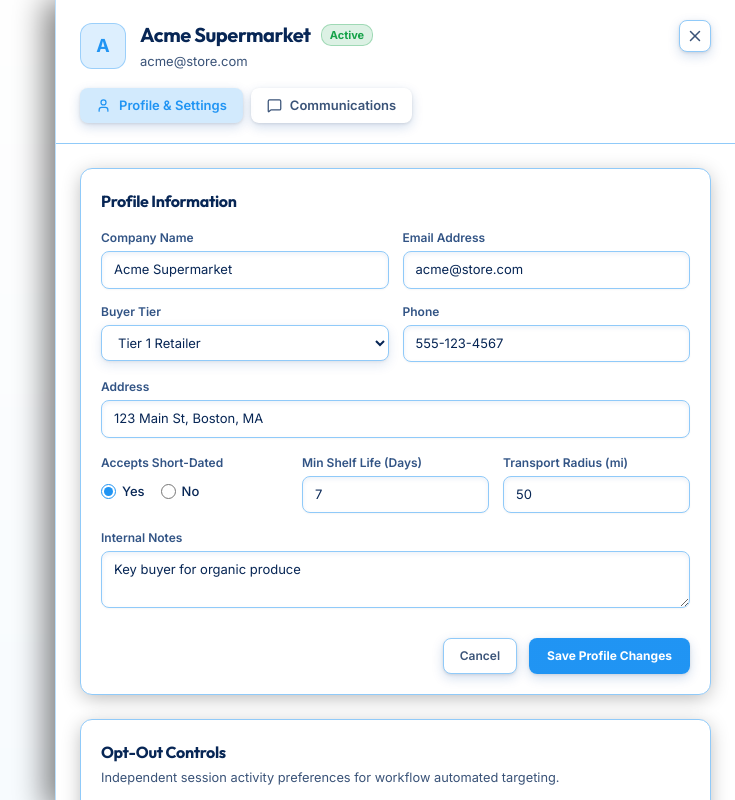
Test: 02 — Buyer Detail Drawer Component › Slice 2: Profile & Settings Inline Edit & Opt-Out Controls › saves updated profile fields to PUT /buyers/:id and updates store
The width and height of the screenshot is (735, 800).
Replace the text in the field with test id "input-companyName" with "Acme Mega Store": x=245, y=270 [101, 251, 388, 288]
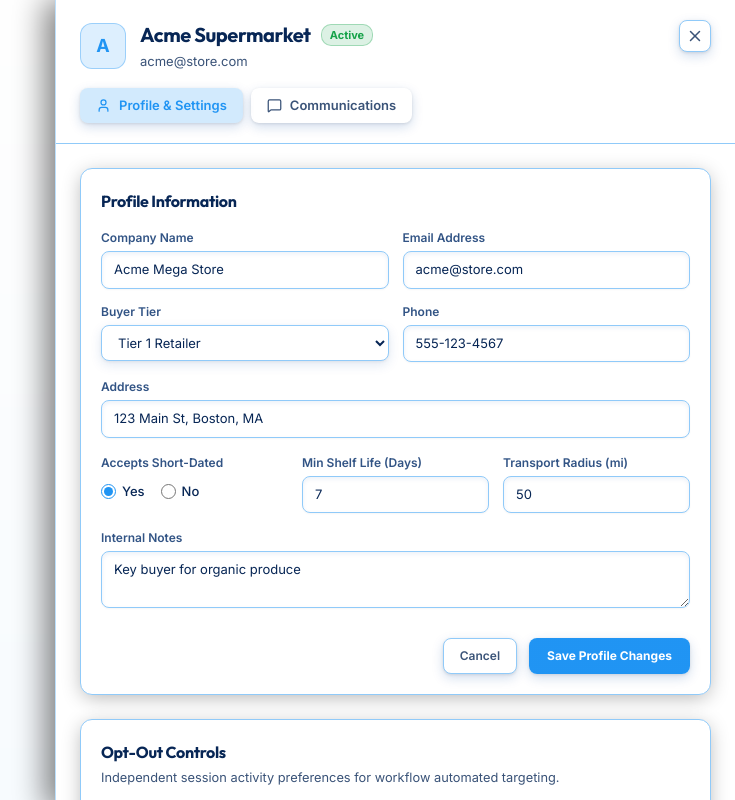
Replace the text in the field with test id "input-email" with "acme-updated@store.com": x=546, y=270 [402, 251, 690, 288]
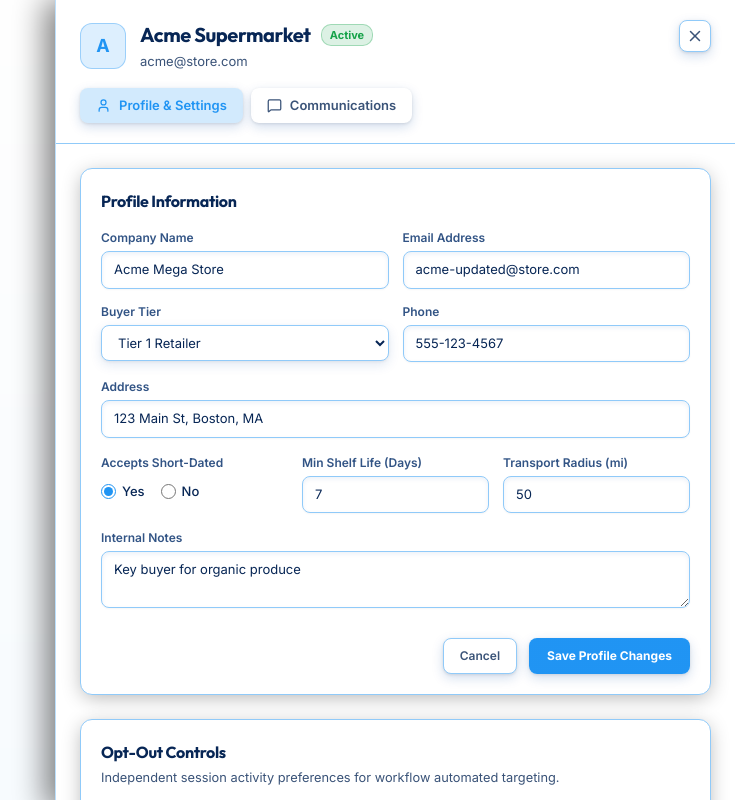
Replace the text in the field with test id "input-phone" with "555-999-0000": x=546, y=343 [402, 324, 690, 362]
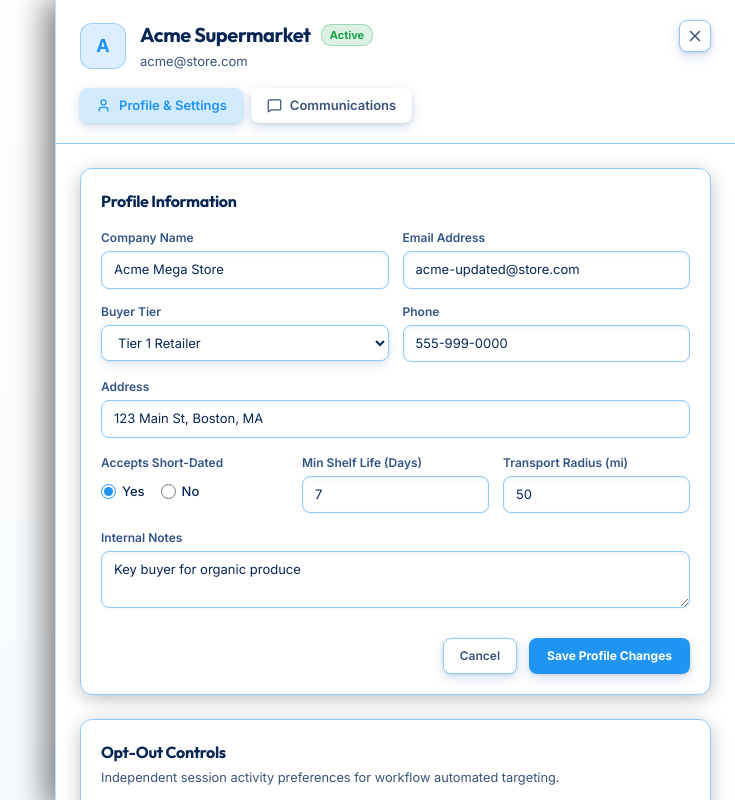
Click the button with test id "save-profile-btn": x=610, y=656 [529, 638, 690, 674]
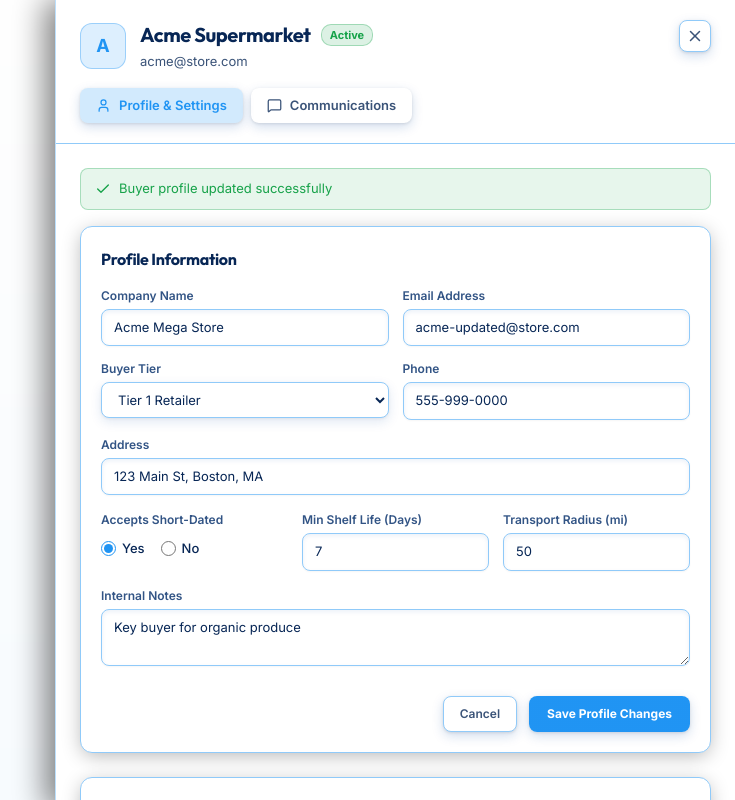
Now the text "Buyer profile updated successfully" is shown, box [80, 168, 711, 210]
